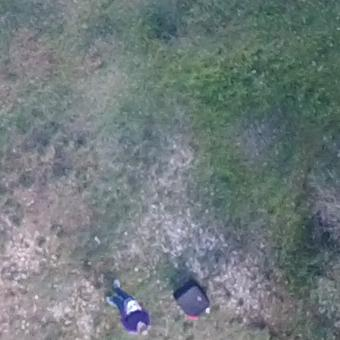human: (101, 279, 154, 338)
